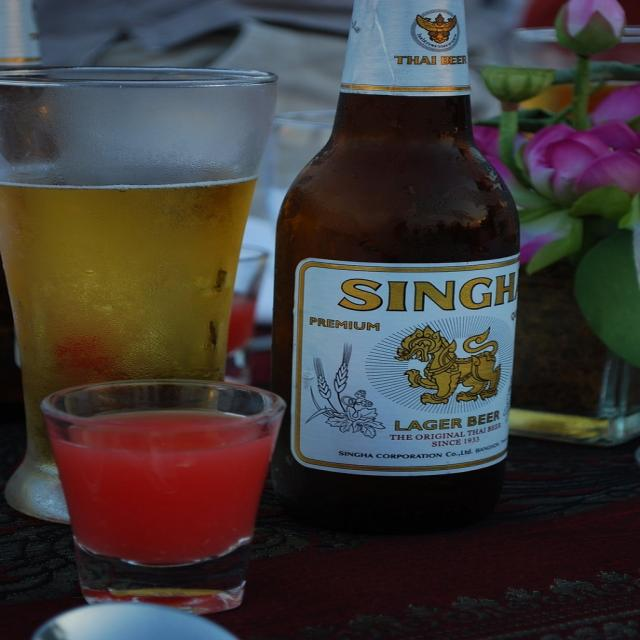singha: (297, 259, 521, 474)
